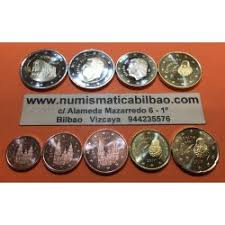eur002: (69, 49, 116, 89)
